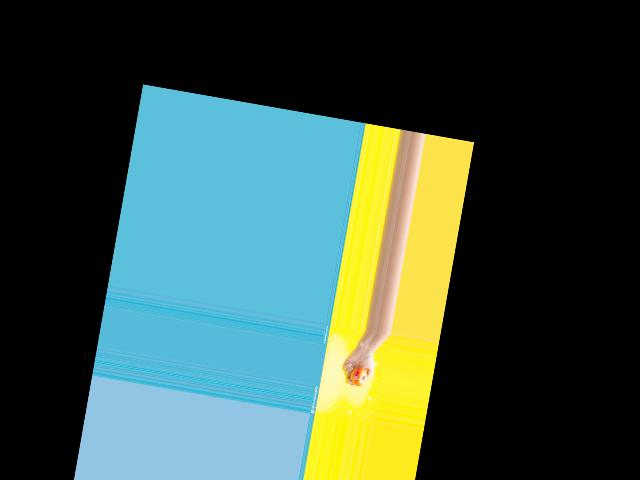tomato: (348, 365, 367, 387)
